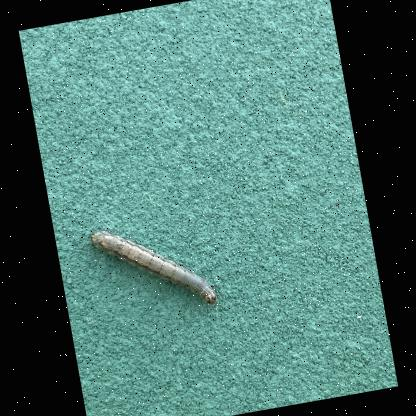Fall Armyworm Larvae: (86, 210, 221, 325)
